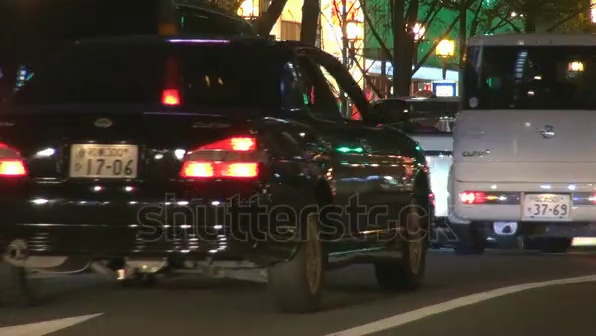licenseplate: (74, 141, 147, 182), (524, 196, 570, 224)
